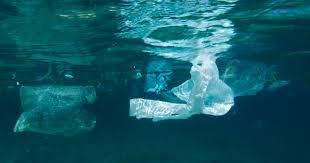Plastic bag: (115, 53, 288, 134), (12, 72, 104, 142)
